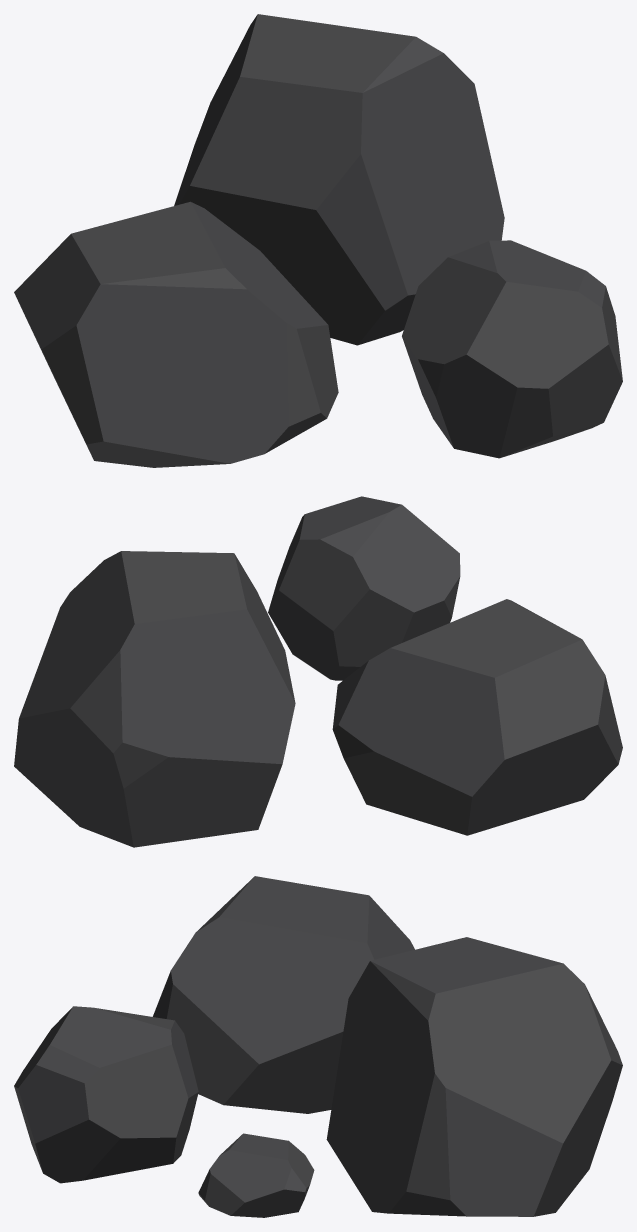
File: Rock_Small.fbx
The picture shows the model from 3 angles, top to bottom: view 1: azimuth 30°, elevation 25°; view 2: azimuth 150°, elevation 25°; view 3: azimuth 270°, elevation 25°; orthographic projection. The views are drawn at different scales.
Parts seen in each view (by area): view 1: rockssmall; view 2: rockssmall; view 3: rockssmall.
Boxes of the visible parts, x1,y1,x2,y2 form: rockssmall: (14, 14, 622, 467); rockssmall: (14, 496, 622, 847); rockssmall: (14, 876, 622, 1217).
Size of the model in its own units: 0.6585 by 0.3064 by 0.7216.
